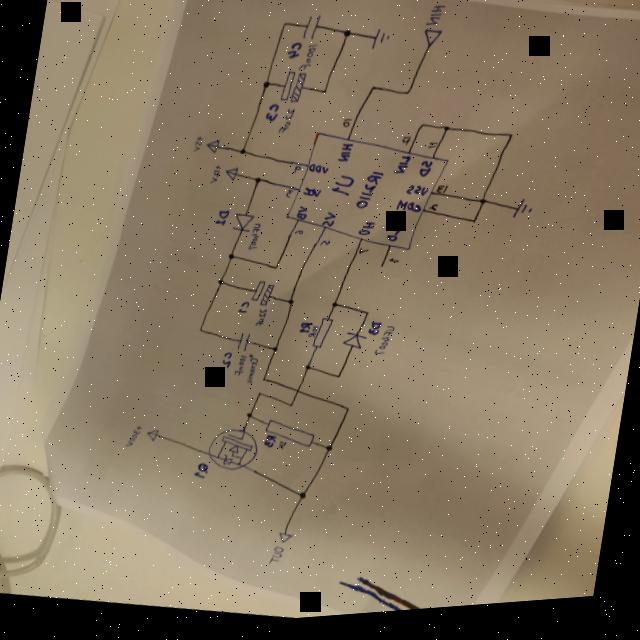capacitor: (278, 73, 304, 110), (249, 283, 274, 311), (300, 17, 322, 46), (234, 334, 252, 357)
crossover: (292, 392, 300, 399)
diode: (339, 333, 366, 357), (230, 215, 254, 238)
ground: (511, 204, 534, 229), (370, 33, 391, 58)
junction: (341, 34, 352, 44), (260, 84, 271, 93), (322, 449, 333, 458), (302, 368, 312, 376), (236, 151, 246, 159), (296, 496, 306, 504), (318, 93, 328, 101), (332, 377, 342, 385), (226, 256, 235, 264), (402, 95, 411, 103), (442, 131, 451, 139), (417, 128, 426, 136), (328, 306, 338, 313), (252, 180, 262, 187), (216, 281, 224, 289), (244, 415, 252, 423), (196, 329, 204, 337), (285, 303, 294, 310), (368, 90, 377, 97), (505, 140, 514, 147), (478, 205, 487, 212), (342, 411, 351, 418), (270, 350, 278, 357), (270, 268, 278, 275), (280, 25, 288, 32), (286, 406, 294, 413), (362, 315, 369, 322), (255, 394, 262, 401), (469, 226, 477, 232), (259, 381, 266, 387)
resistor: (262, 420, 317, 456), (311, 321, 333, 354)
source: (203, 141, 220, 159), (143, 429, 159, 446), (222, 169, 238, 186)
terminal: (421, 34, 442, 57), (274, 534, 294, 550)
text: (354, 175, 384, 217), (372, 329, 394, 363), (330, 177, 354, 204), (276, 109, 296, 140), (392, 202, 422, 222), (298, 47, 316, 79), (124, 424, 144, 452), (424, 10, 445, 35), (403, 188, 431, 206), (392, 159, 412, 182), (244, 357, 258, 389), (266, 548, 285, 571), (247, 226, 261, 256), (284, 43, 302, 65), (336, 146, 353, 169), (191, 464, 209, 485), (262, 107, 280, 128), (356, 225, 374, 244), (306, 166, 328, 181), (232, 358, 246, 381), (213, 212, 229, 232), (300, 190, 322, 204), (416, 166, 432, 185), (320, 216, 336, 235), (208, 167, 222, 188), (384, 232, 400, 250), (366, 326, 382, 343), (262, 437, 278, 454), (190, 138, 203, 157), (254, 312, 266, 332), (294, 209, 308, 226), (220, 355, 232, 372), (237, 303, 250, 318), (432, 190, 448, 202), (298, 326, 312, 339), (306, 330, 318, 344), (426, 208, 439, 219), (356, 251, 369, 262), (399, 141, 411, 152), (340, 123, 351, 134), (386, 262, 399, 271), (426, 147, 437, 157), (276, 444, 286, 455), (320, 243, 330, 252), (284, 193, 293, 203), (293, 233, 304, 241), (293, 170, 301, 179)
transistor: (204, 427, 260, 479)
